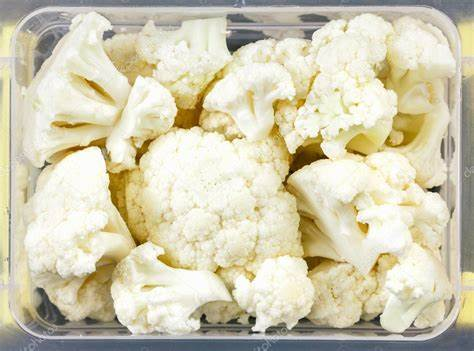Cauliflower: (111, 123, 310, 272), (13, 142, 142, 338), (18, 5, 135, 170), (281, 14, 402, 157), (286, 150, 417, 276), (376, 10, 456, 128), (197, 56, 297, 144), (223, 249, 319, 336), (302, 250, 392, 336)
